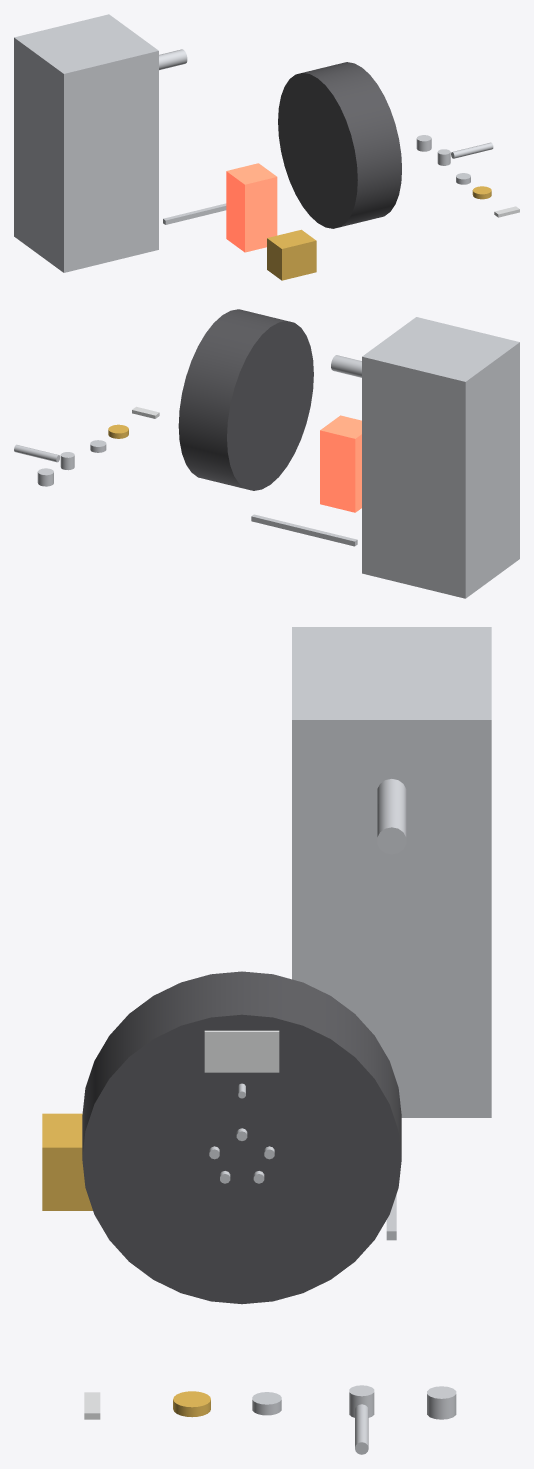
The model's file is lastik.glb.
3 renders of one model, top to bottom at view 1: azimuth 30°, elevation 25°; view 2: azimuth 150°, elevation 25°; view 3: azimuth 270°, elevation 25°, orthographic. The views are drawn at different scales.
Visible parts, largest first — view 1: balans_makinesi, lastik, sehpa, kriko, bijon_anahtari, balans_mili, rot_kolu; view 2: balans_makinesi, lastik, sehpa, bijon_anahtari, balans_mili, rot_kolu; view 3: balans_makinesi, lastik, kriko, lastik_yanagi, balans_mili, rotil.
Boxes of the visible parts, x1,y1,x2,y2 form: balans_makinesi: (14,14,158,272); lastik: (278,62,401,228); sehpa: (226,163,277,252); kriko: (267,229,316,280); bijon_anahtari: (163,203,226,224); balans_mili: (159,49,187,70); rot_kolu: (451,142,493,158); balans_makinesi: (362,317,519,598); lastik: (178,309,313,490); sehpa: (320,415,361,512); bijon_anahtari: (251,514,357,546); balans_mili: (331,355,361,377); rot_kolu: (14,444,59,462); balans_makinesi: (292,627,491,1117); lastik: (82,971,401,1304); kriko: (42,1113,92,1210); lastik_yanagi: (204,1030,279,1072); balans_mili: (377,779,406,854); rotil: (427,1386,456,1419).
Bounding box in the file's own units: 2.06 × 0.88 × 0.9.
